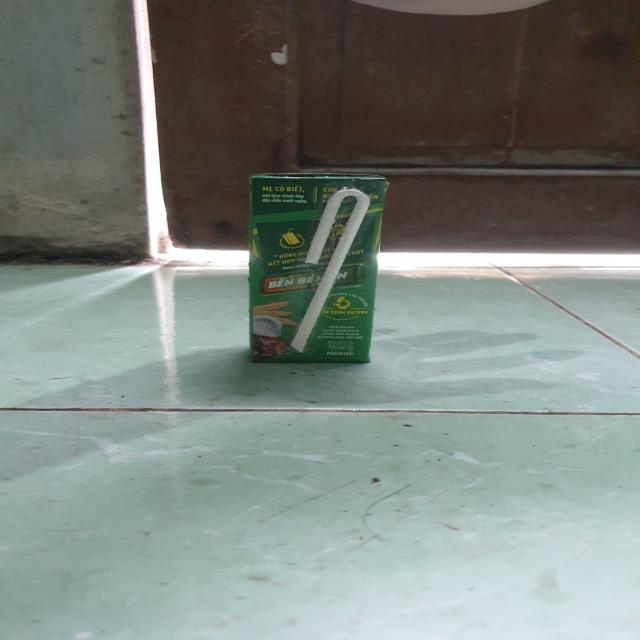Milo: (247, 171, 393, 368)
